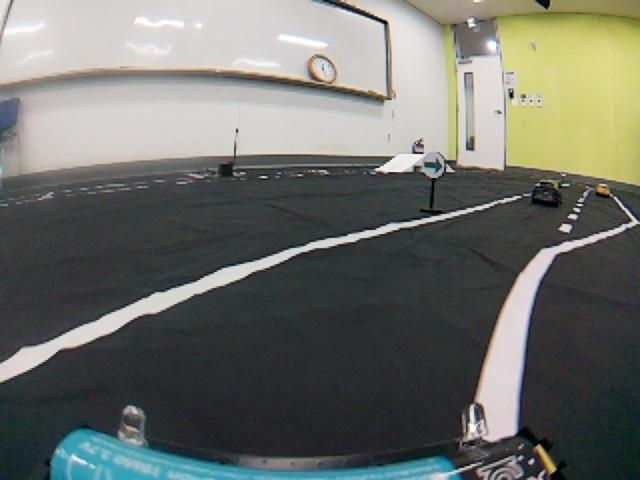car: (524, 170, 566, 213), (591, 179, 614, 199)
sign_right: (414, 144, 453, 182)
straight: (0, 244, 640, 480)
